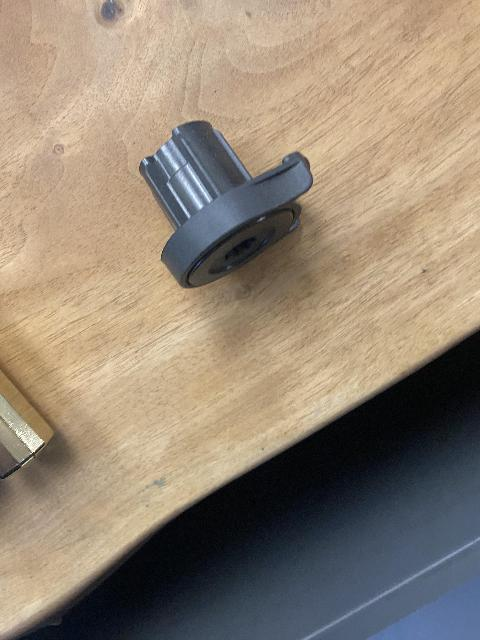Plastik: (144, 117, 330, 287)
